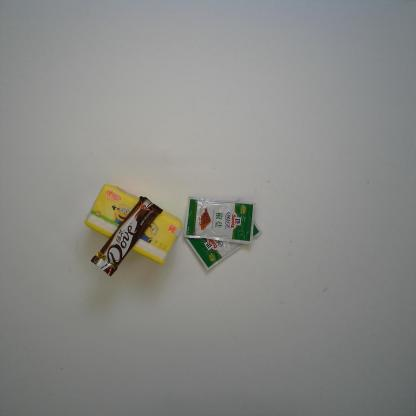Chocolate: (90, 194, 164, 277)
Seasoner: (185, 218, 263, 272), (184, 196, 256, 245)
Tissue: (83, 183, 183, 265)
